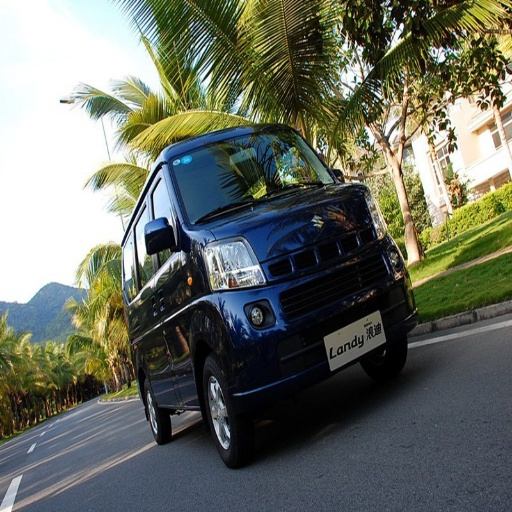front_bumper: (229, 195, 413, 405)
front_glass: (169, 129, 326, 228)
front_right_door: (138, 166, 178, 331)
front_right_light: (208, 242, 267, 286)
